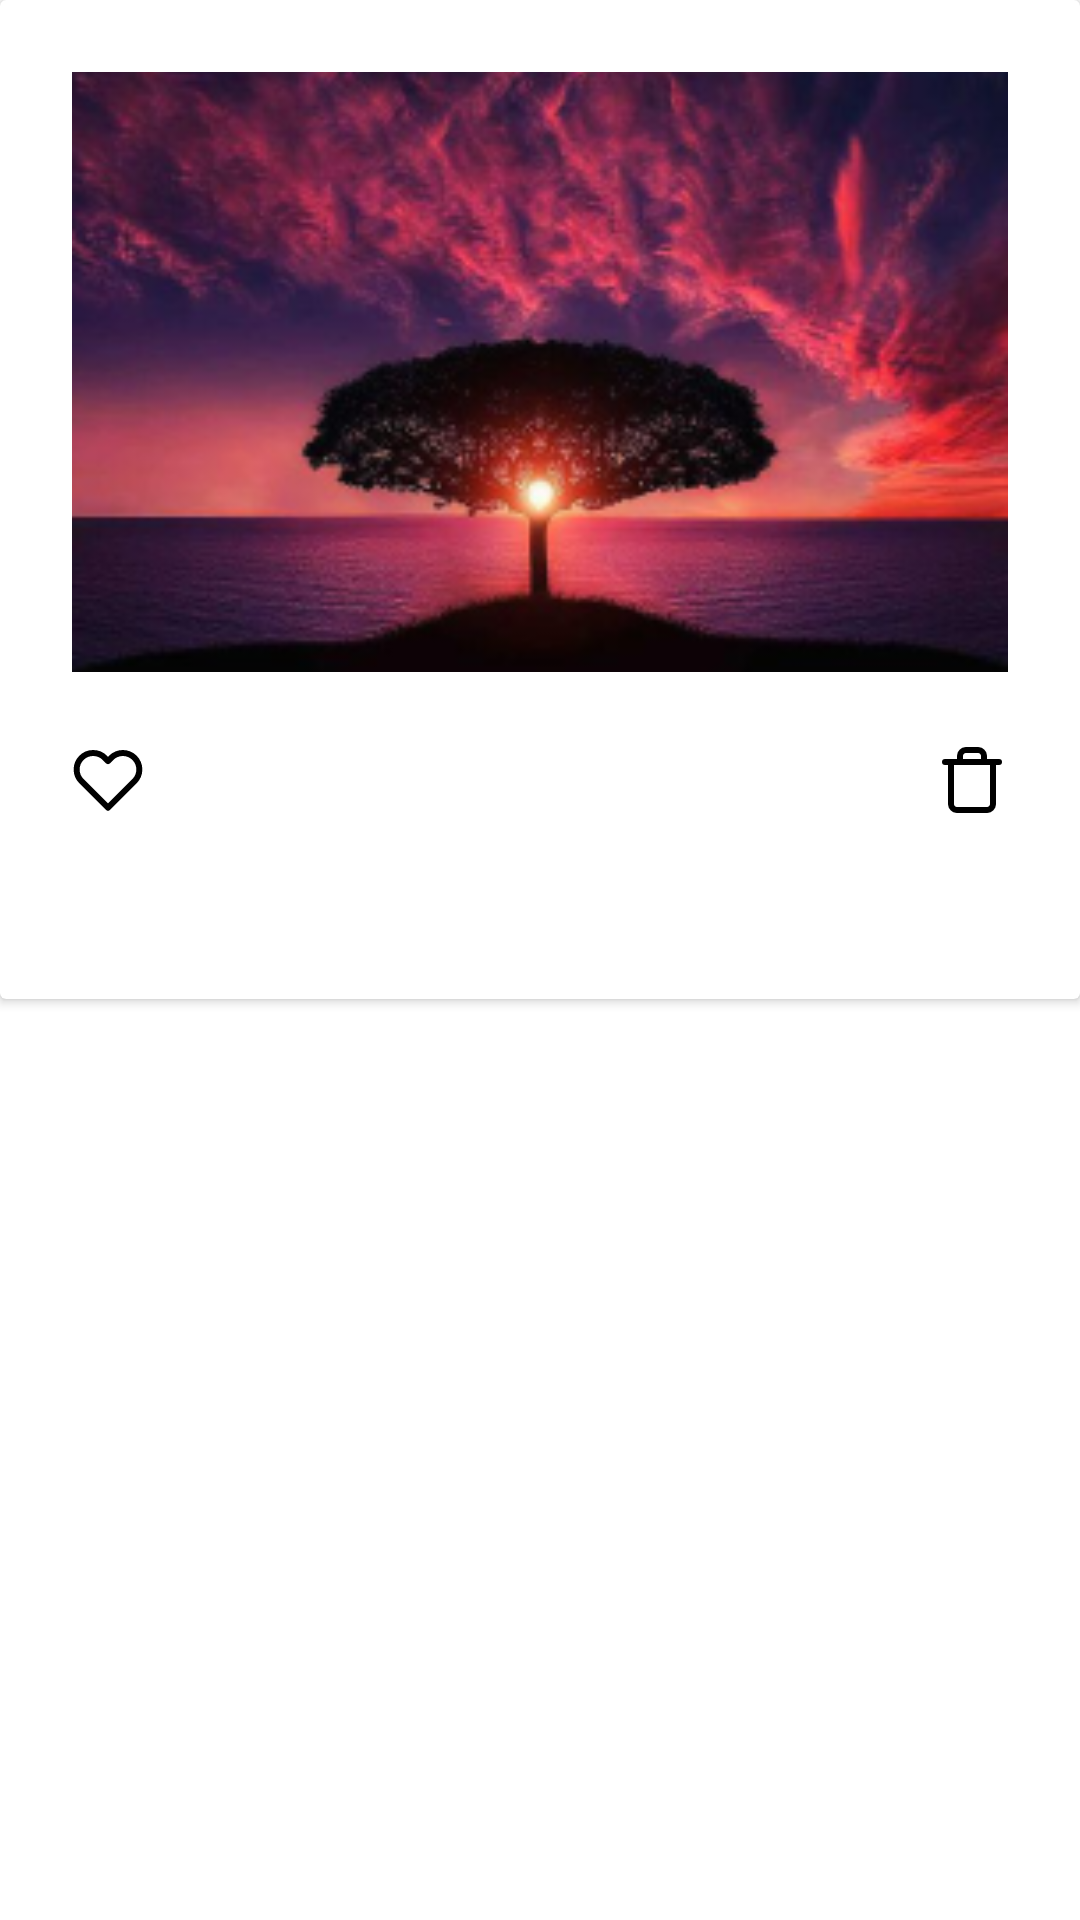

Named icons in this screenshot (1080px x 1920px) and their bounding boxes, (x1, y1, x2, y2):
heart: (73, 750, 143, 811)
trash: (942, 747, 1002, 813)
